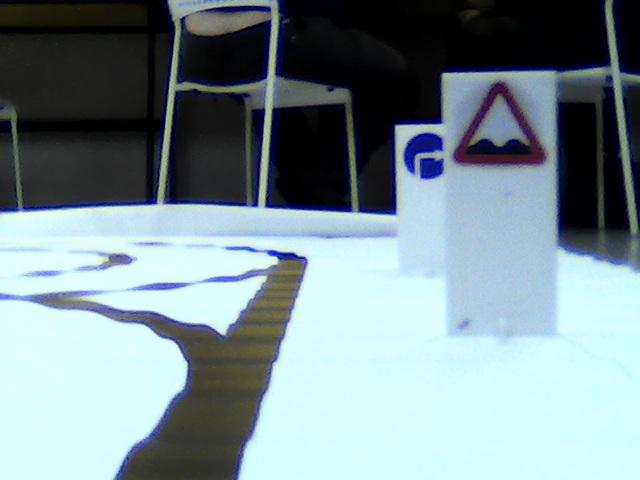Nerov: (451, 81, 545, 165)
Right: (400, 132, 449, 184)
